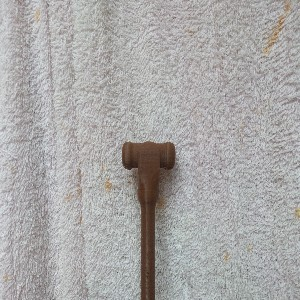palu: (122, 139, 176, 300)
